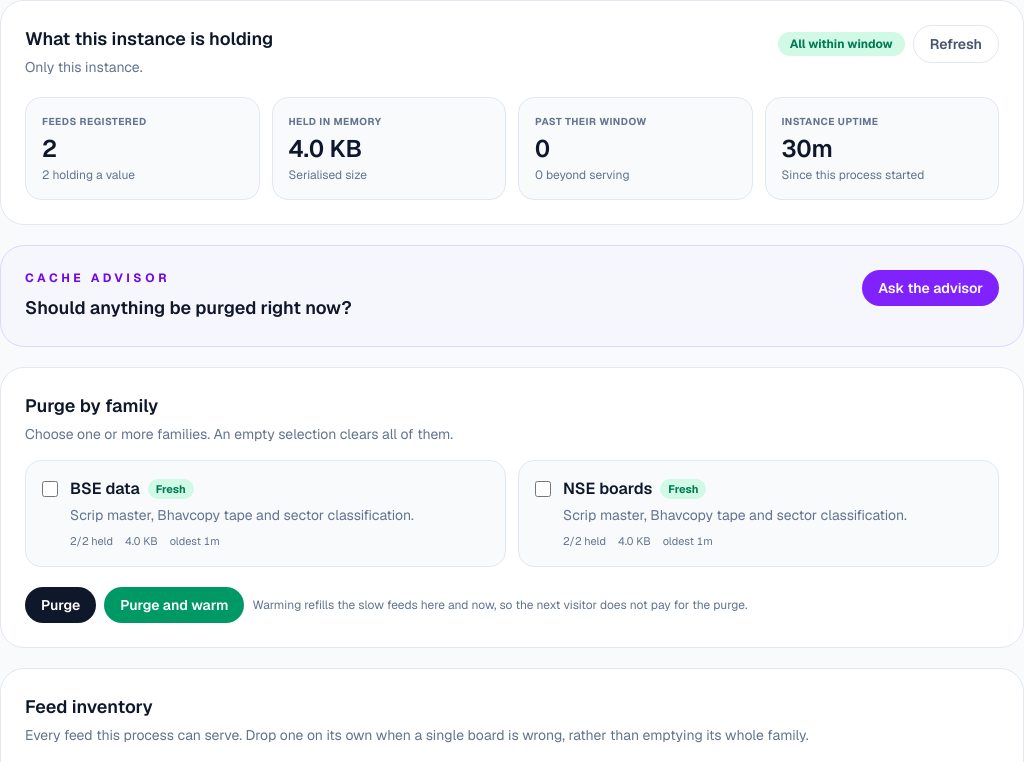
Test: CacheControl purging › clears the selection on request
The image size is (1024, 762).
Click the 1st checkbox. click: (50, 489)
box: [42, 481, 58, 497]
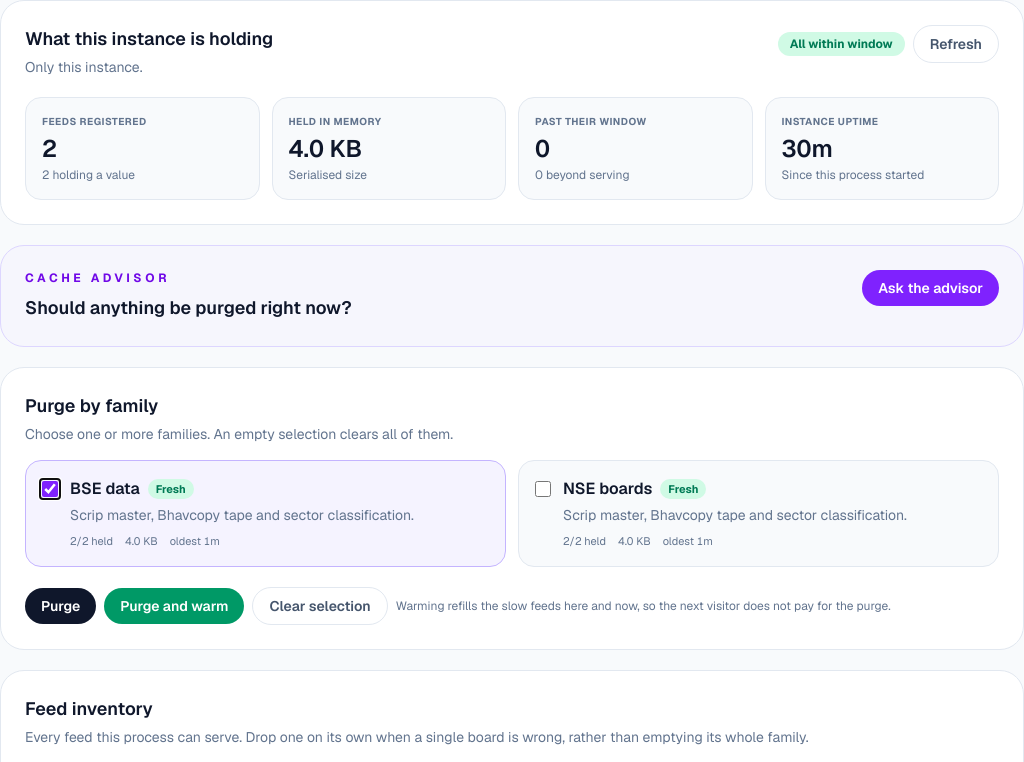
Click the button "Clear selection". click: (320, 606)
box: [252, 586, 388, 624]
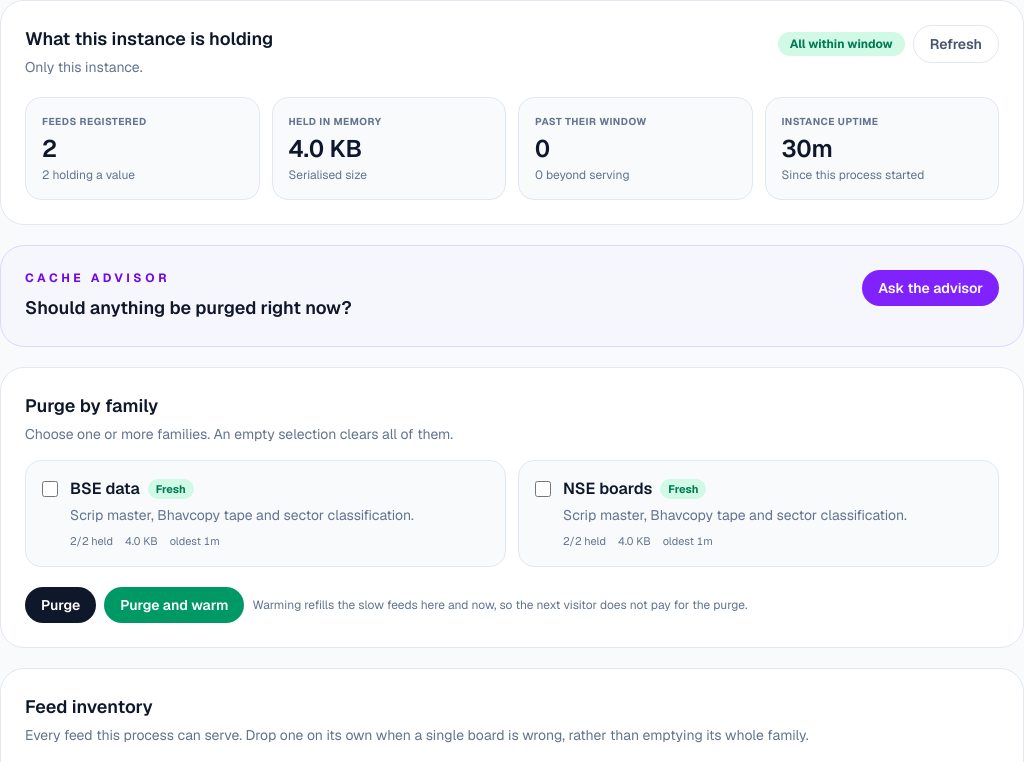
Expected: the button "Clear selection" is gone
